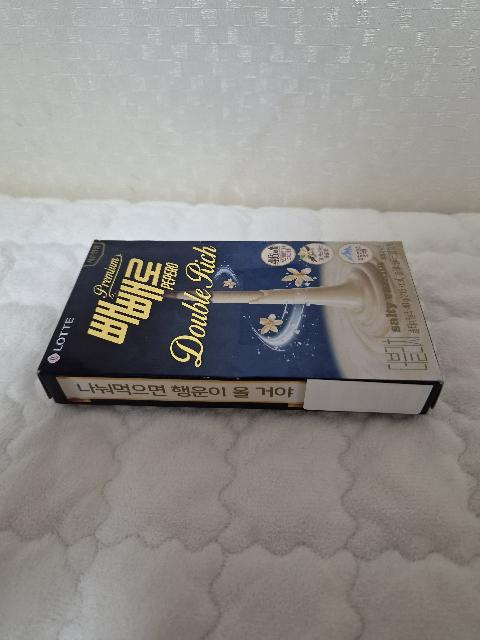pepero: (36, 239, 444, 415)
